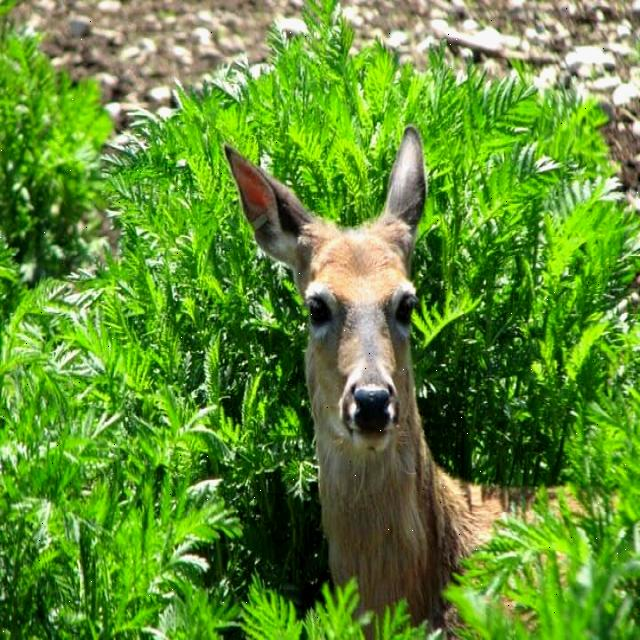deer: (219, 126, 450, 488)
